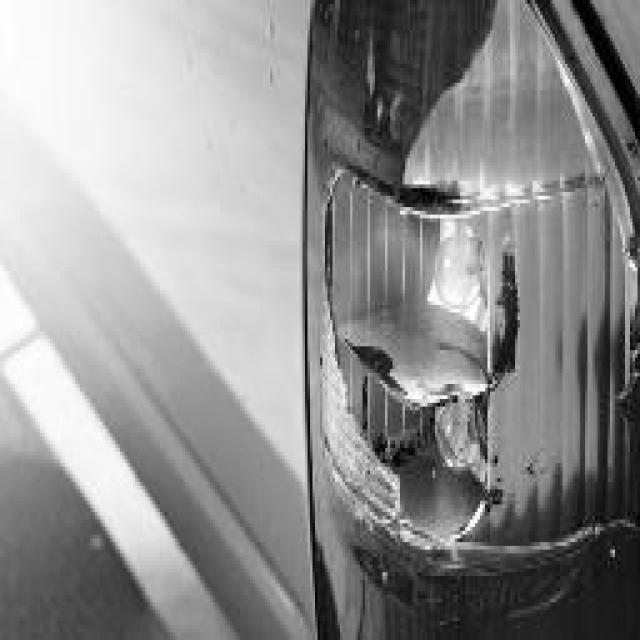Light: (315, 0, 610, 640)
